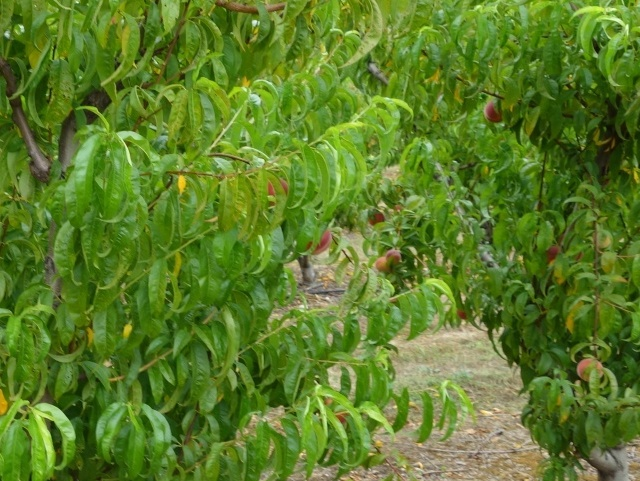peach: (305, 223, 335, 258), (573, 354, 604, 383), (480, 98, 508, 125), (364, 204, 390, 230), (382, 247, 402, 270), (371, 255, 392, 276)
